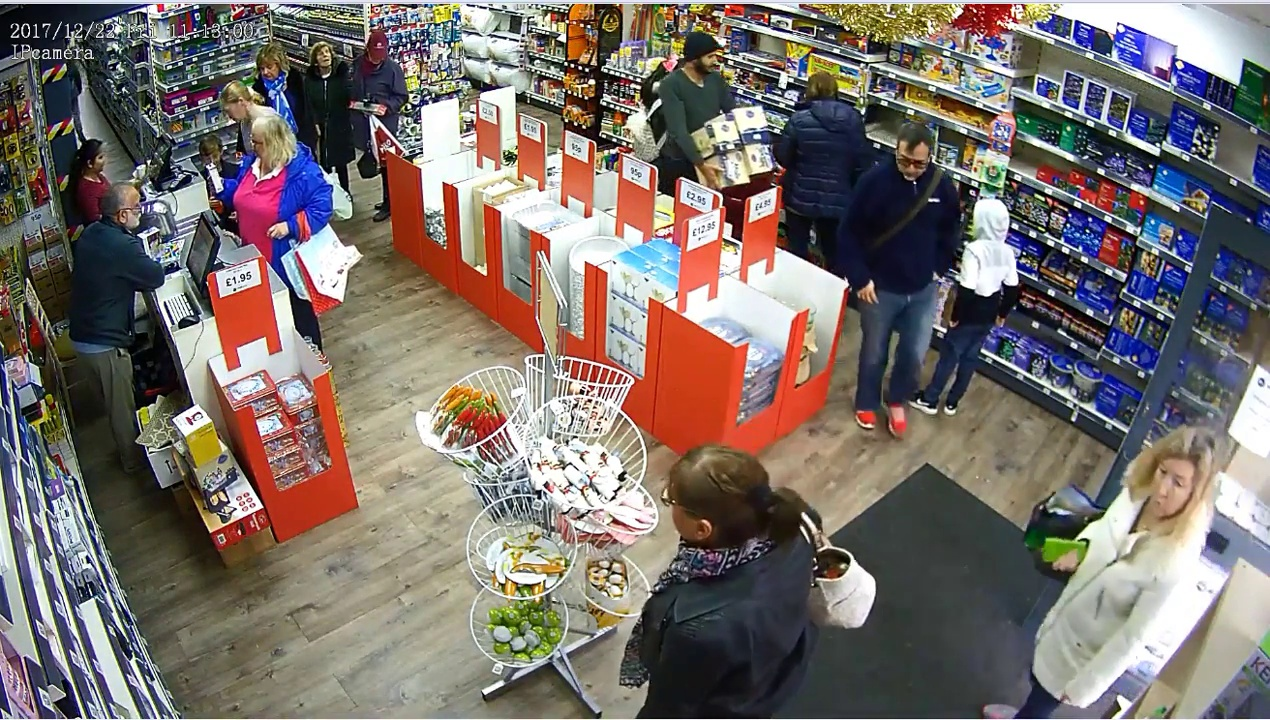face: (1145, 449, 1185, 528), (896, 140, 925, 183), (696, 40, 721, 72), (222, 93, 240, 125), (257, 58, 281, 80), (312, 48, 336, 67)
